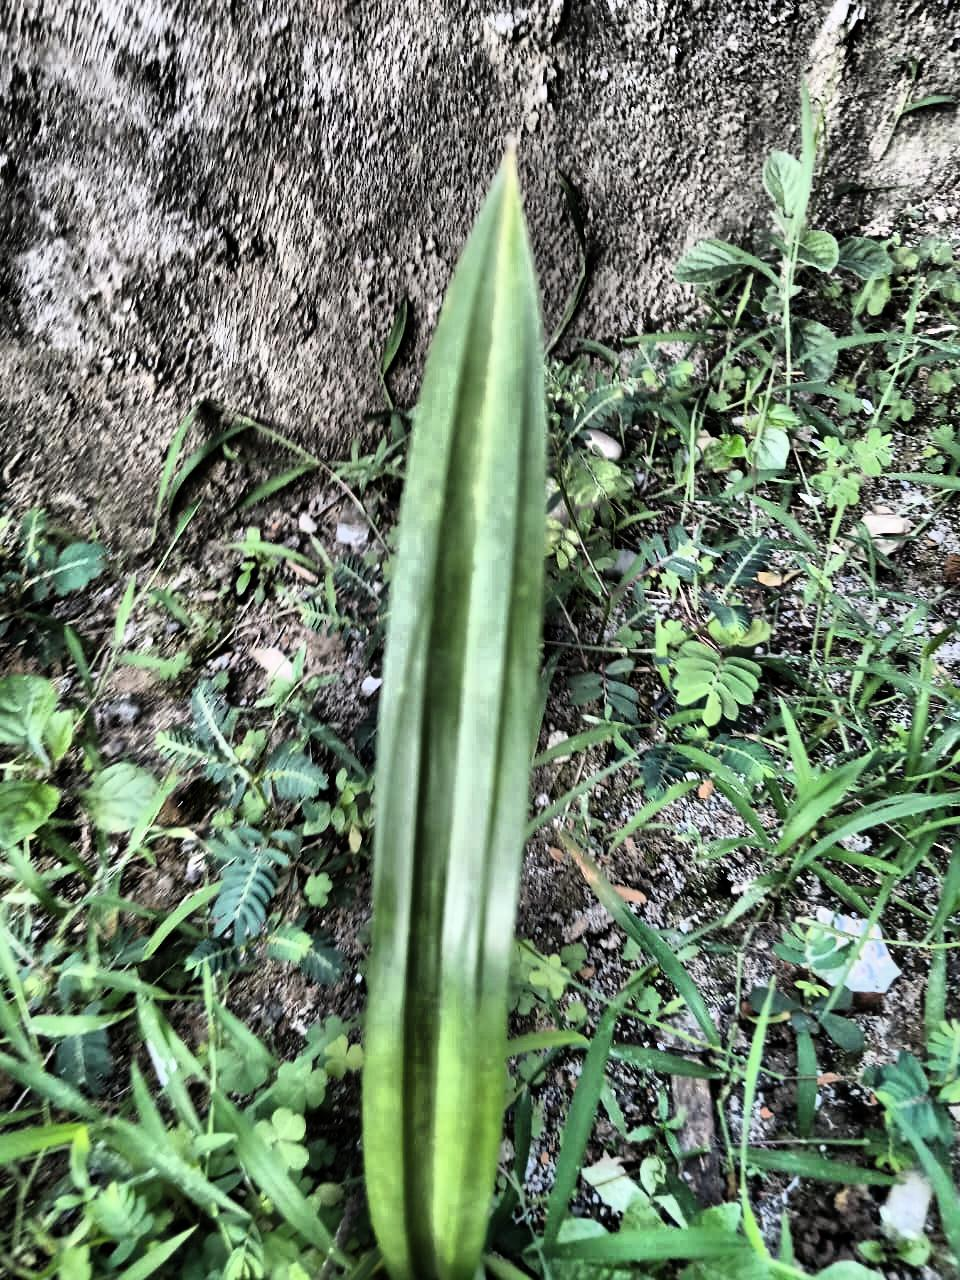daun pandan: (361, 153, 548, 1279)
